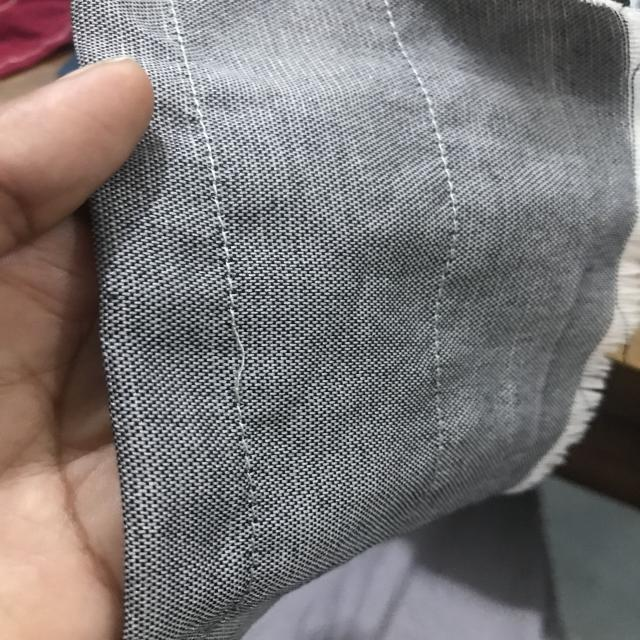skip: (211, 317, 271, 409)
